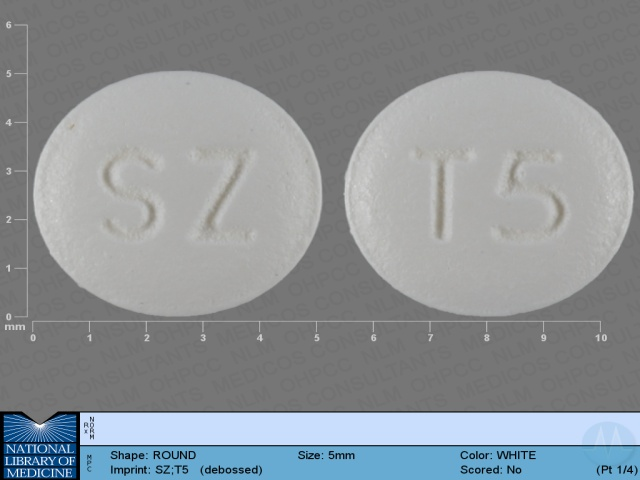5: (488, 145, 572, 245)
S: (99, 142, 164, 244)
T: (406, 140, 472, 246)
Z: (186, 140, 264, 247)
